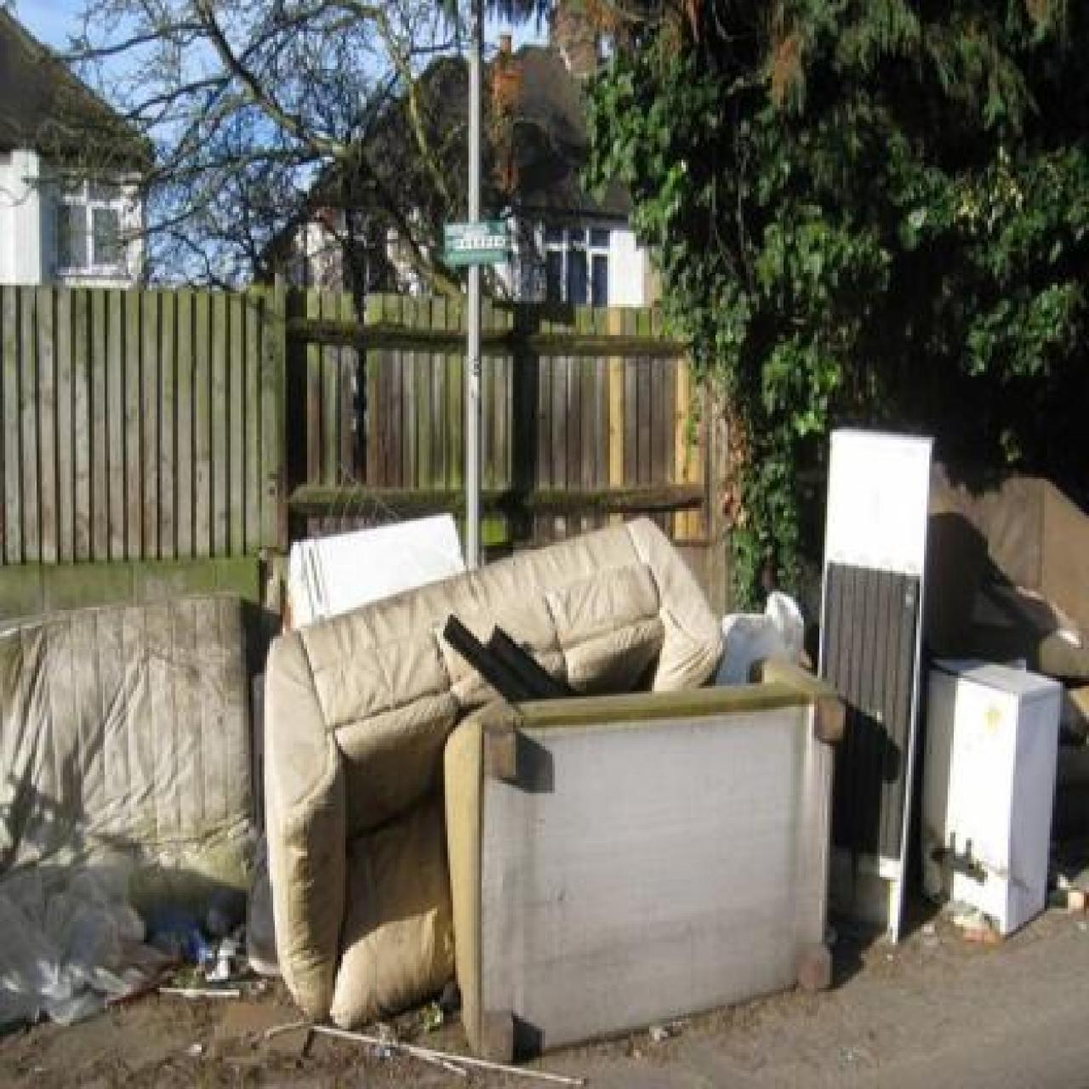bulk_waste: (264, 517, 721, 1027), (444, 662, 843, 1061), (0, 594, 255, 918), (819, 428, 931, 940), (920, 659, 1061, 935), (288, 514, 465, 626)
